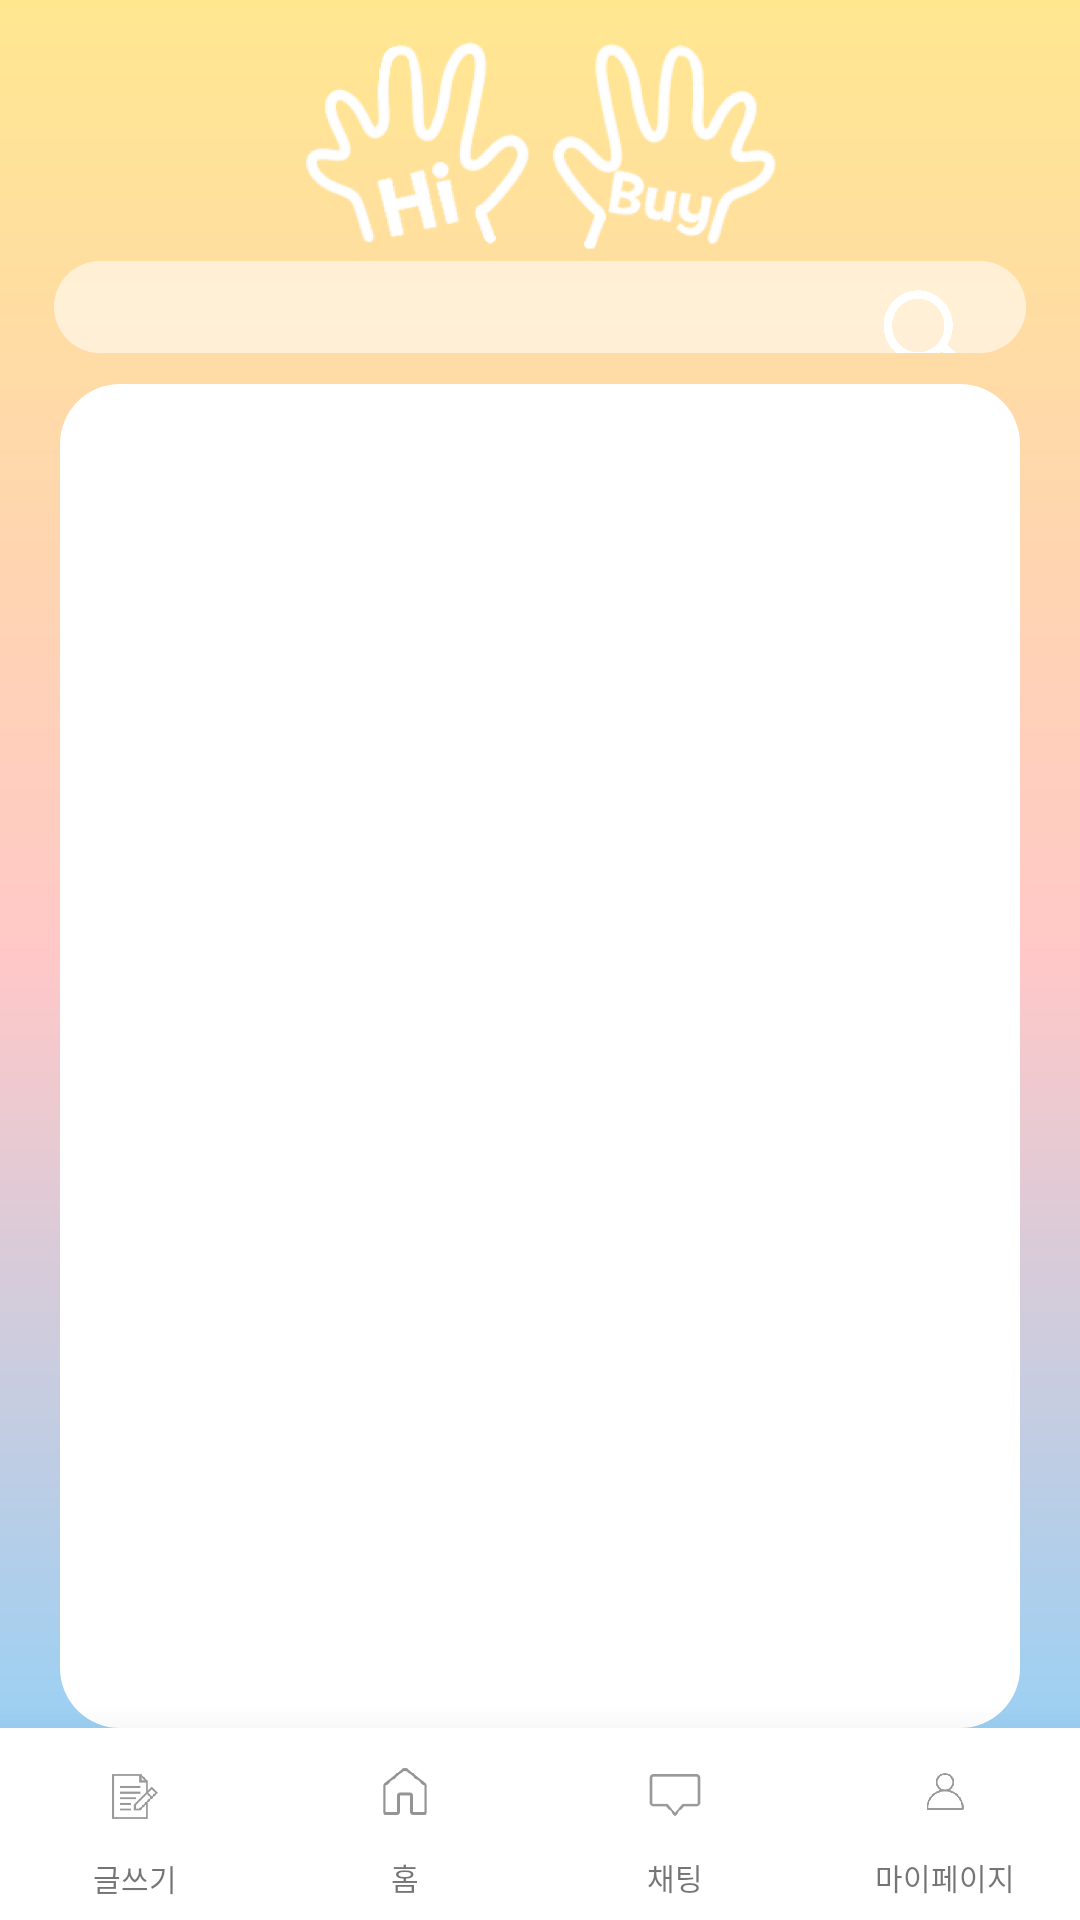

Icon click points for this 1080 × 1920 phone screenshot, format (x,y):
contract: (135,1796)
house: (405,1791)
mypage: (945,1791)
